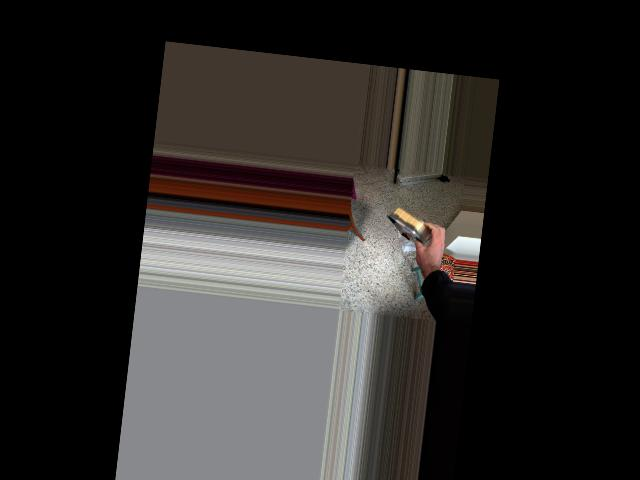cheese: (380, 195, 457, 260)
